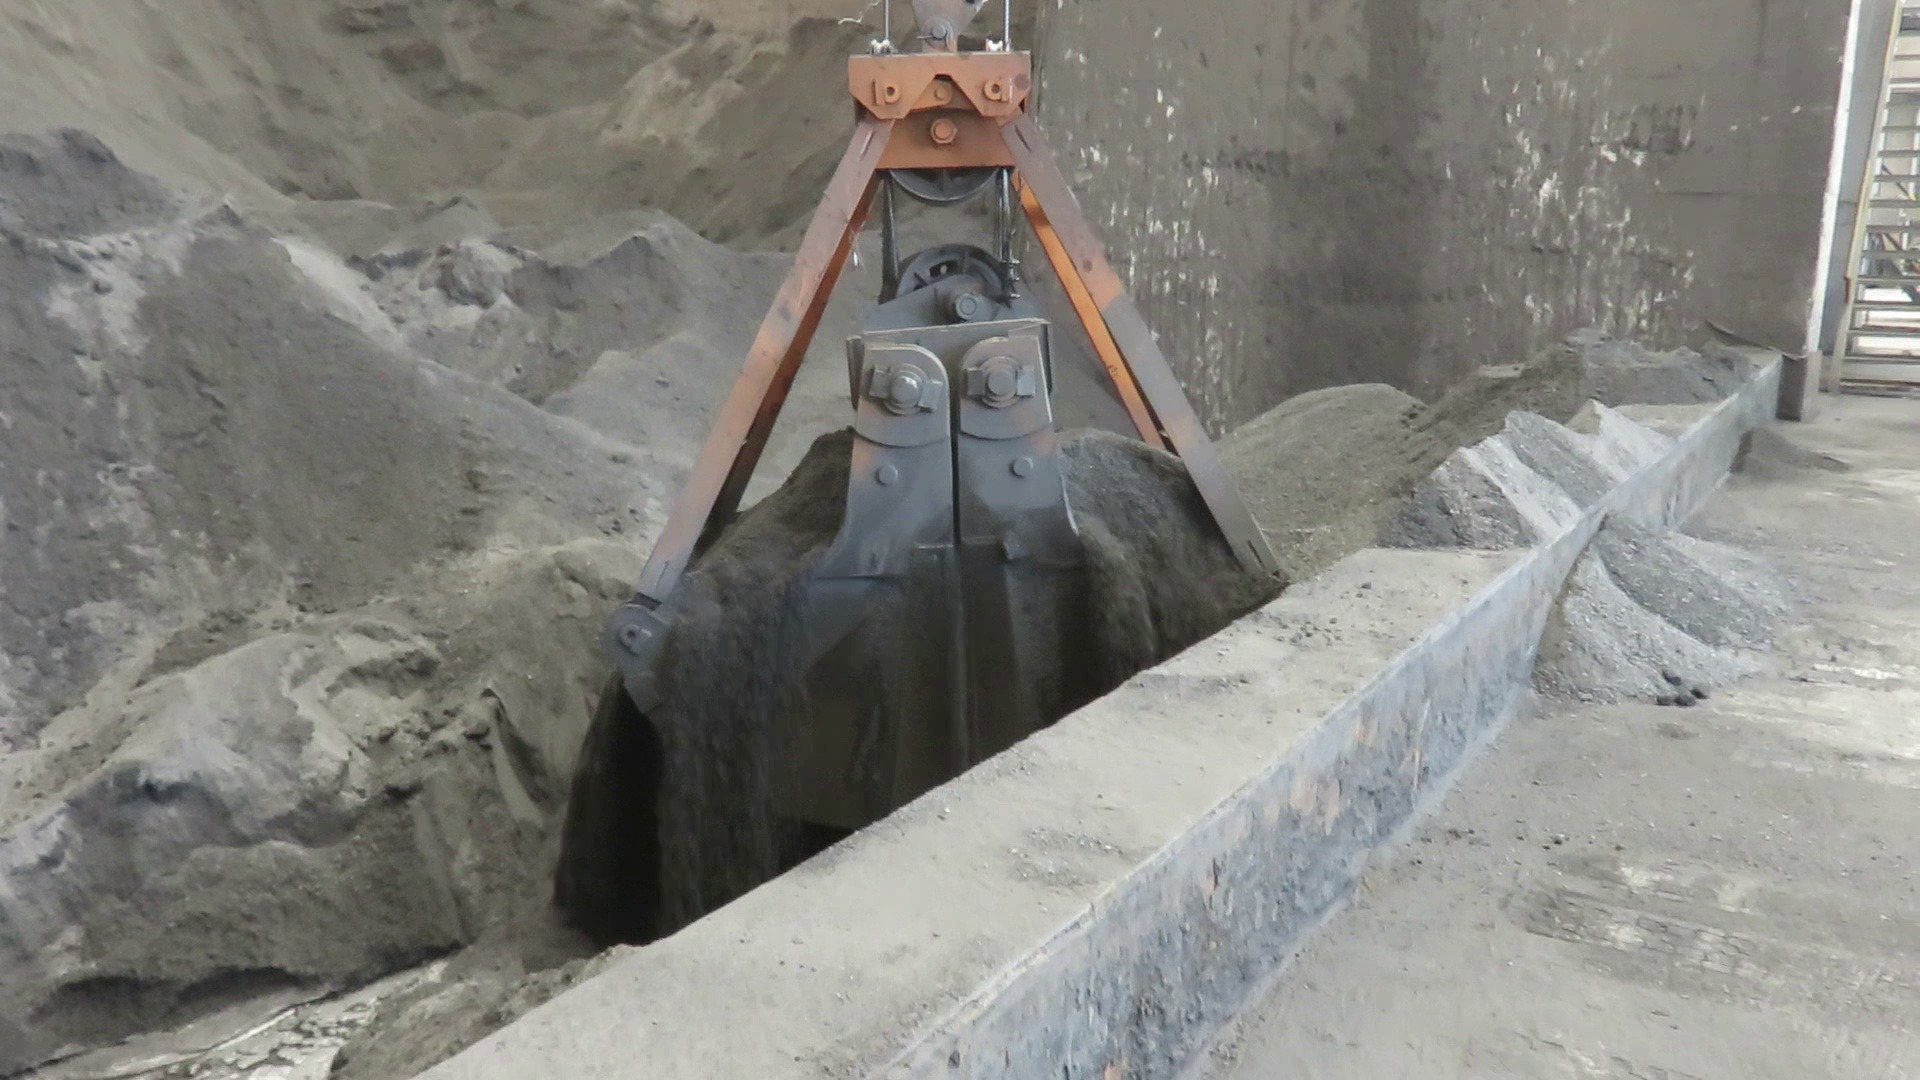grab: (545, 26, 1307, 957)
